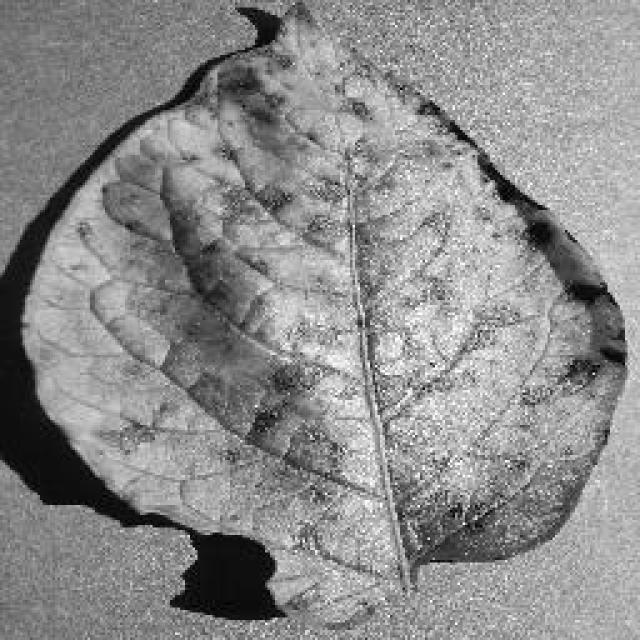Potato: (12, 0, 630, 625)
